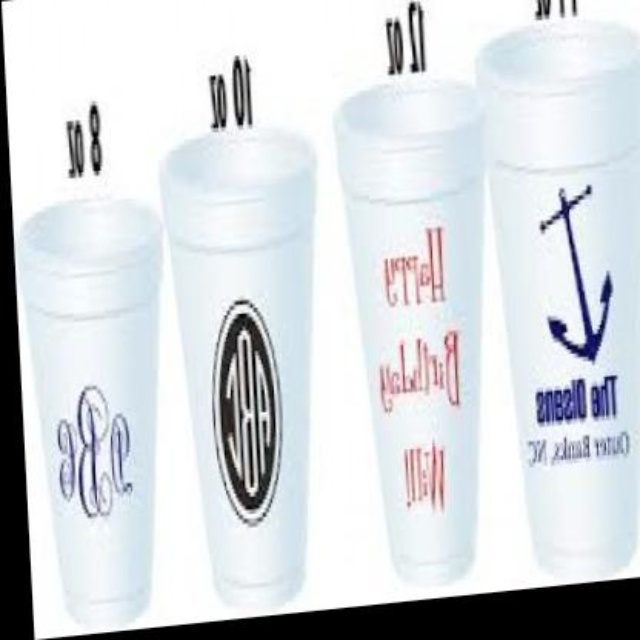trash: (3, 0, 638, 637), (478, 20, 638, 575), (163, 57, 314, 605), (335, 2, 477, 580), (335, 78, 477, 580), (22, 198, 158, 626)
